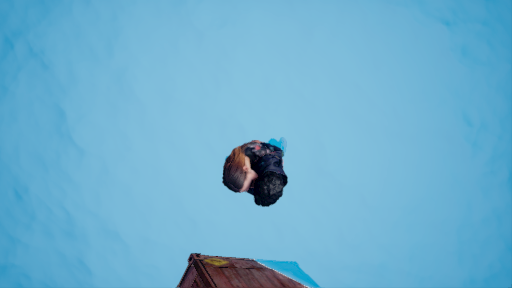person: (226, 134, 289, 210)
